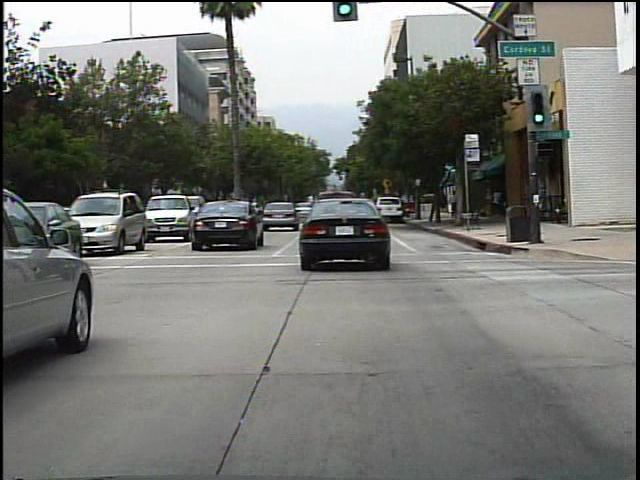person: (444, 187, 464, 223)
